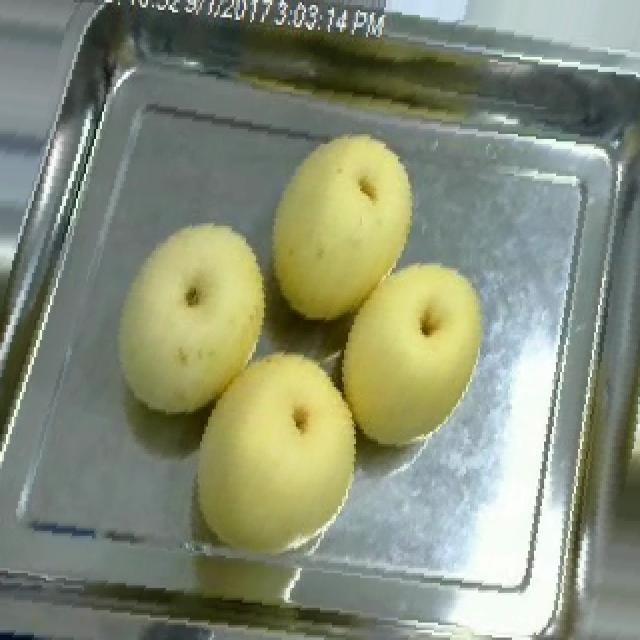Fruit: (172, 335, 372, 570), (96, 199, 288, 434), (248, 109, 432, 340), (322, 243, 500, 459)
